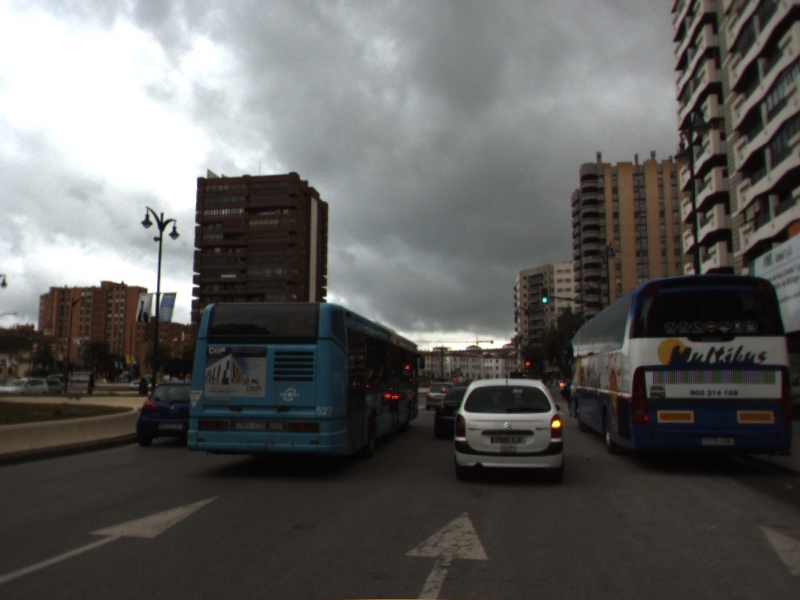STRAIGHT: (1, 489, 228, 585), (401, 508, 494, 600)
